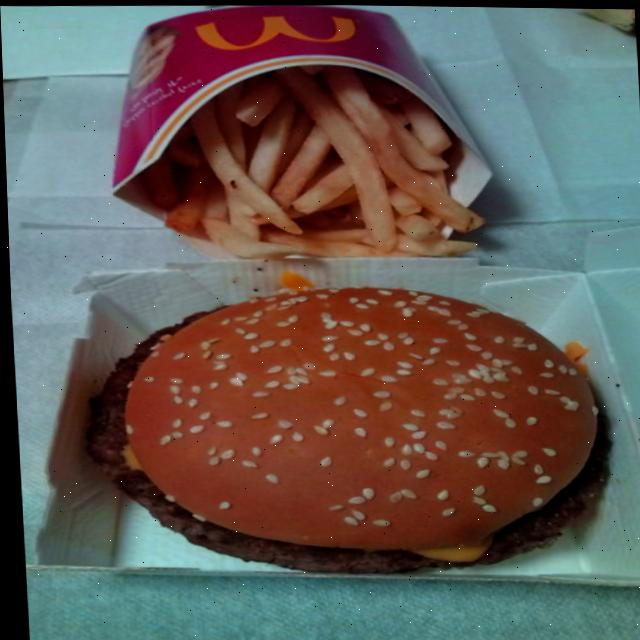汉堡快餐: (76, 272, 608, 569)
炸货点心: (100, 2, 499, 258)
